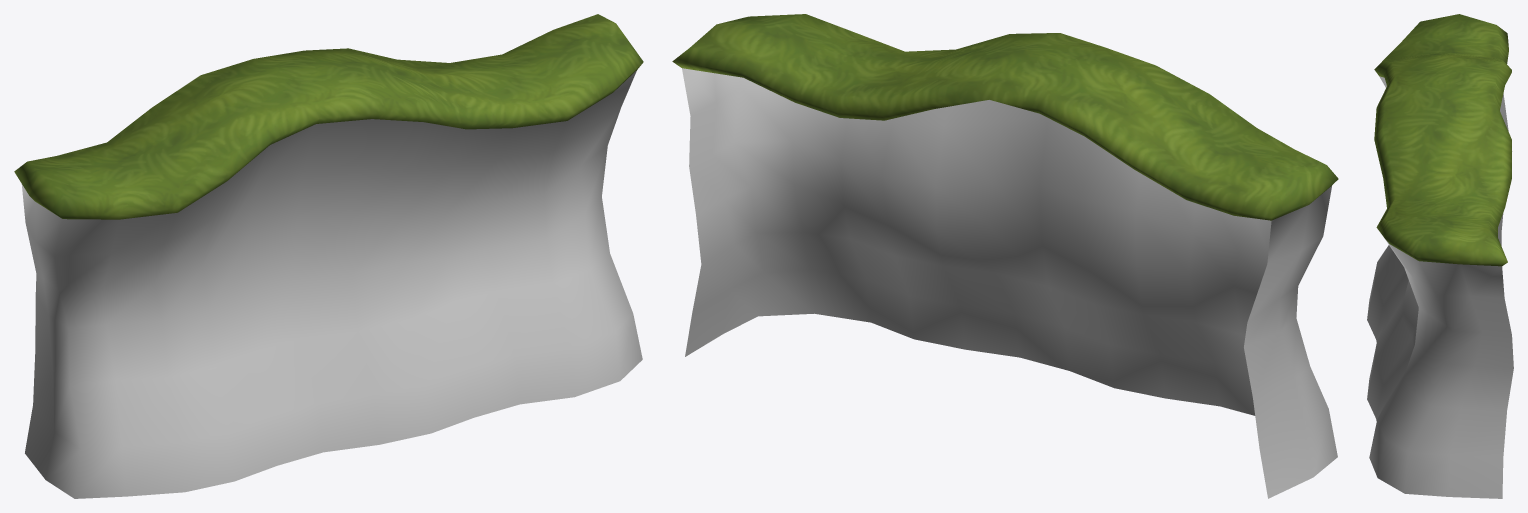
Rendered from cliffd.FBX.
3 views of the same model, side by side, from view 1: azimuth 30°, elevation 25°; view 2: azimuth 150°, elevation 25°; view 3: azimuth 270°, elevation 25° (orthographic). The views are drawn at different scales.
Parts seen in each view (by area): view 1: cliffd; view 2: cliffd; view 3: cliffd.
Part boxes in pixels (x1,y1,x2,y2): cliffd: (14,14,643,498); cliffd: (672,14,1338,498); cliffd: (1367,14,1513,498).
Bounding box in the file's own units: 39.07 × 21.71 × 10.
